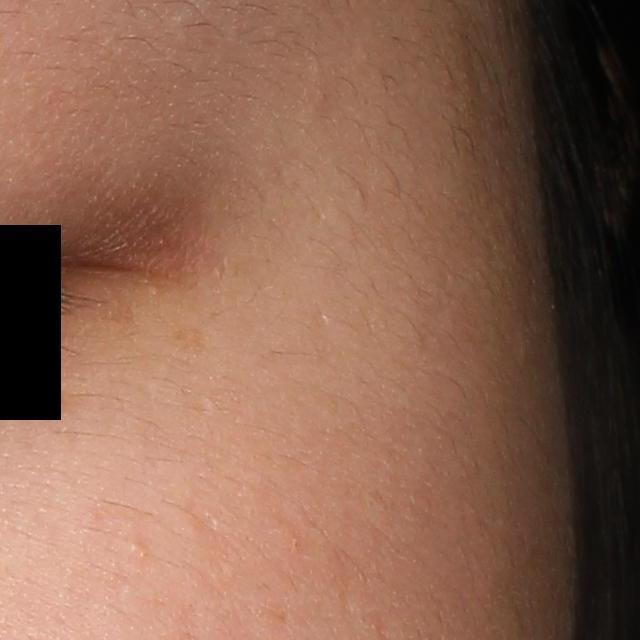comedo: (126, 536, 147, 561)
melasma: (173, 314, 207, 362)
